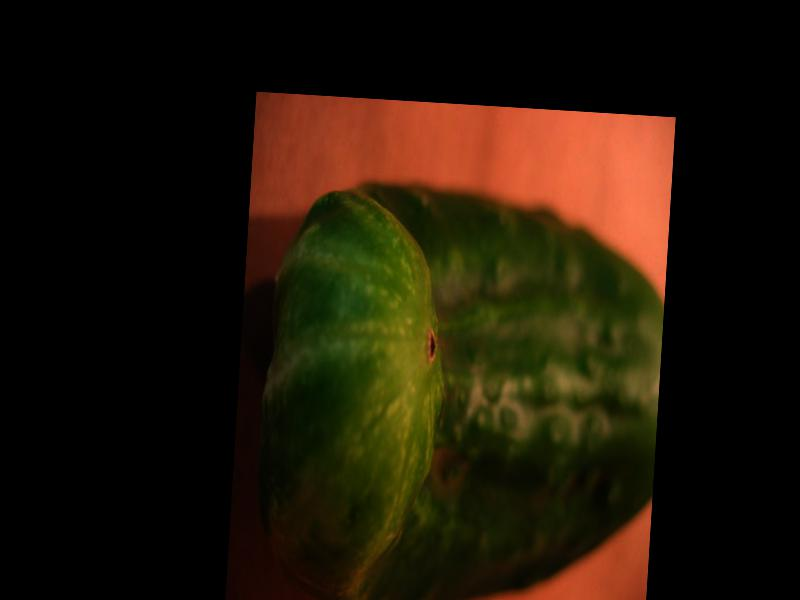Cucumber: (250, 174, 669, 600)
